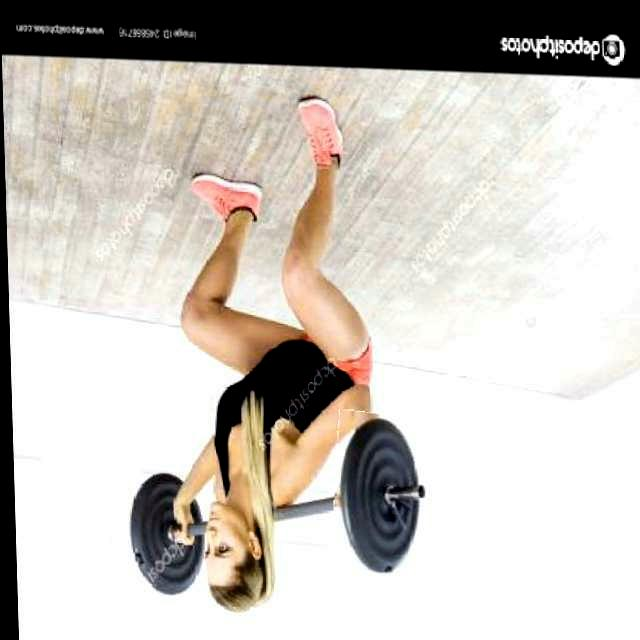barbell: (327, 409, 432, 582)
